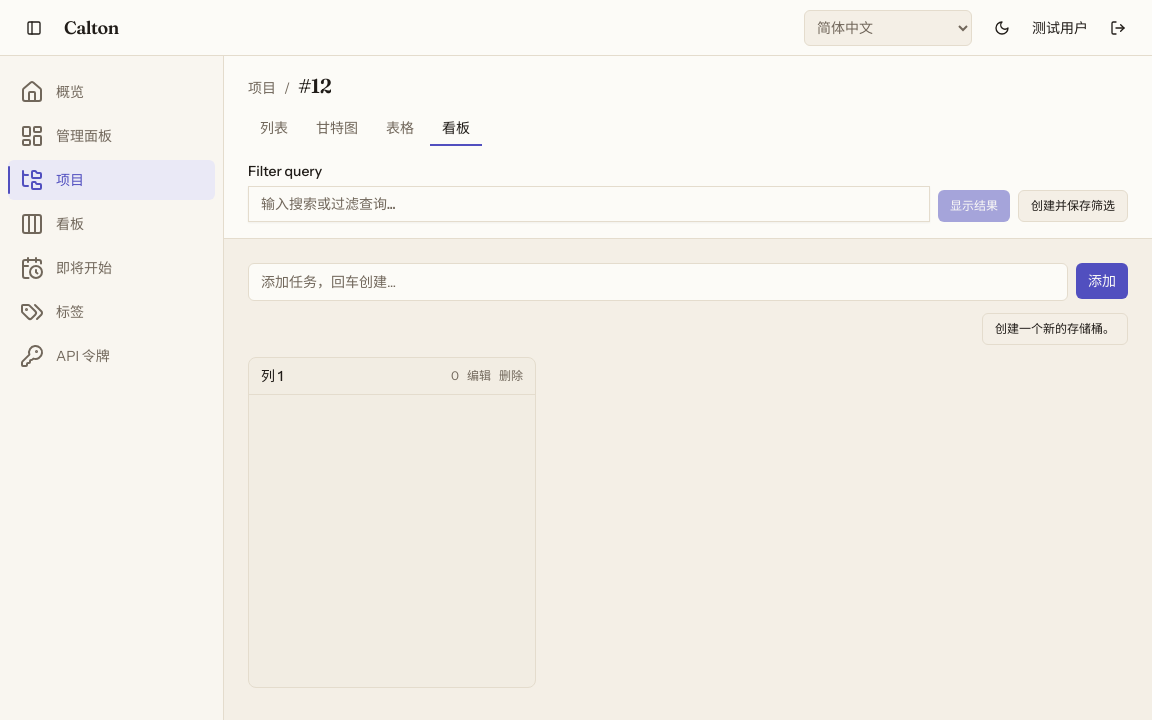
看板：列（桶）CRUD › 写失败时在弹窗里展示后端消息，弹窗不关
This screenshot has width=1152, height=720.
Expected: the element with test id "bucket-column" is shown, x1=248 y1=357 x2=536 y2=688
Click the button with test id "new-bucket".
click(1055, 329)  # box x1=982 y1=313 x2=1128 y2=345
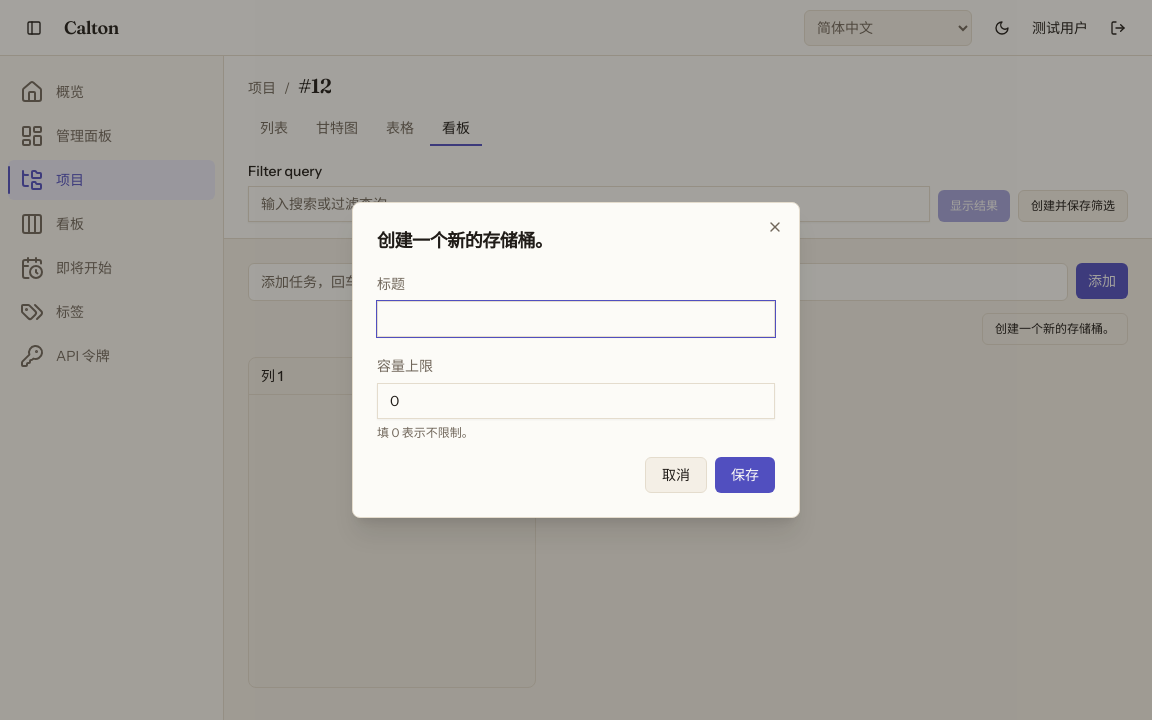
Type "x" into the field with test id "bucket-title-input".
click(576, 319); type("x")  # box x1=377 y1=301 x2=775 y2=337
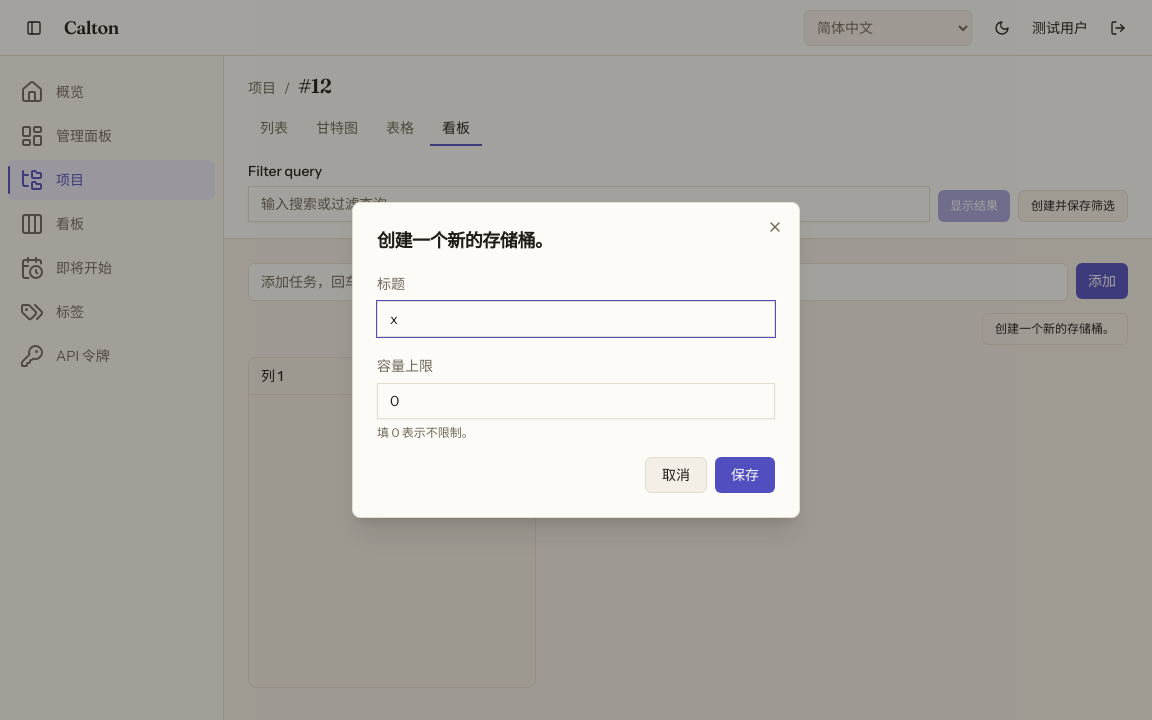
Click the button with test id "bucket-form-submit".
click(745, 475)  # box x1=715 y1=457 x2=775 y2=493
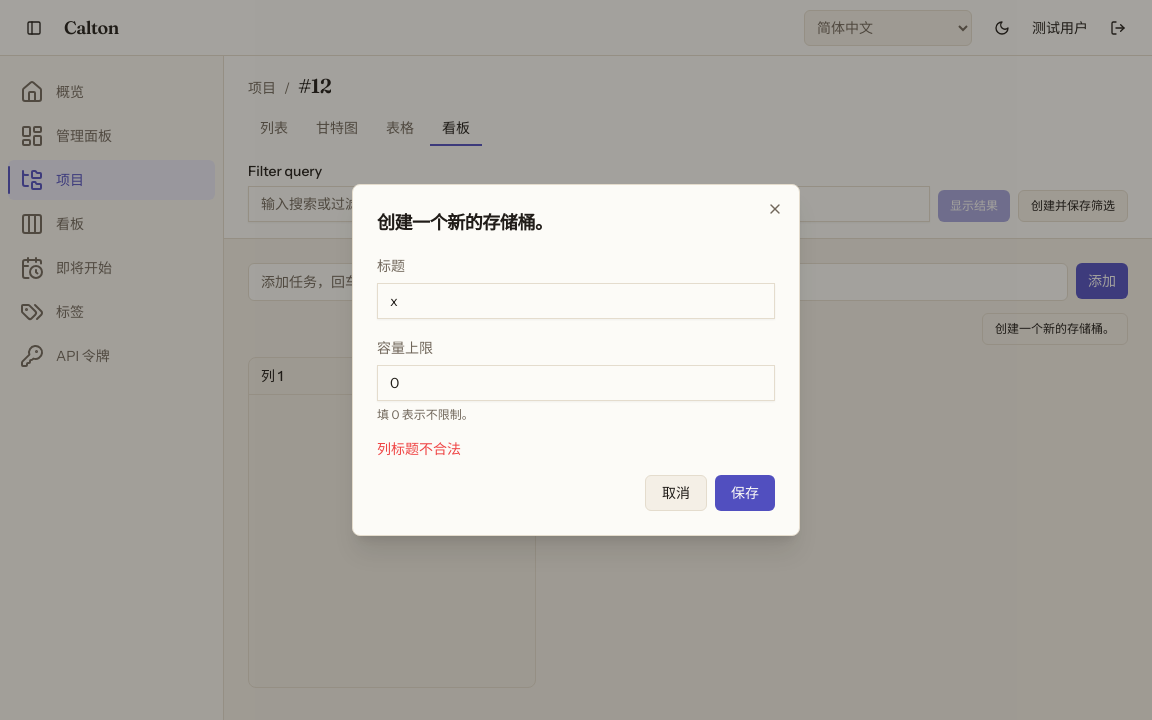
Now the dialog with test id "bucket-form" is shown, box x1=352 y1=184 x2=800 y2=536
Now the text "列标题不合法" is shown, box x1=377 y1=440 x2=461 y2=458
